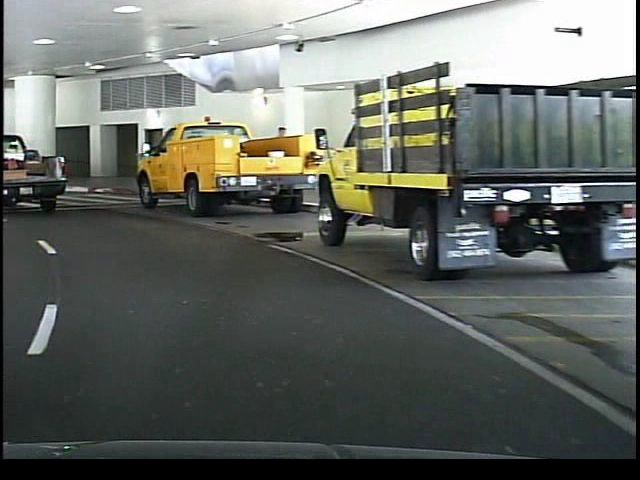person: (267, 121, 291, 198)
